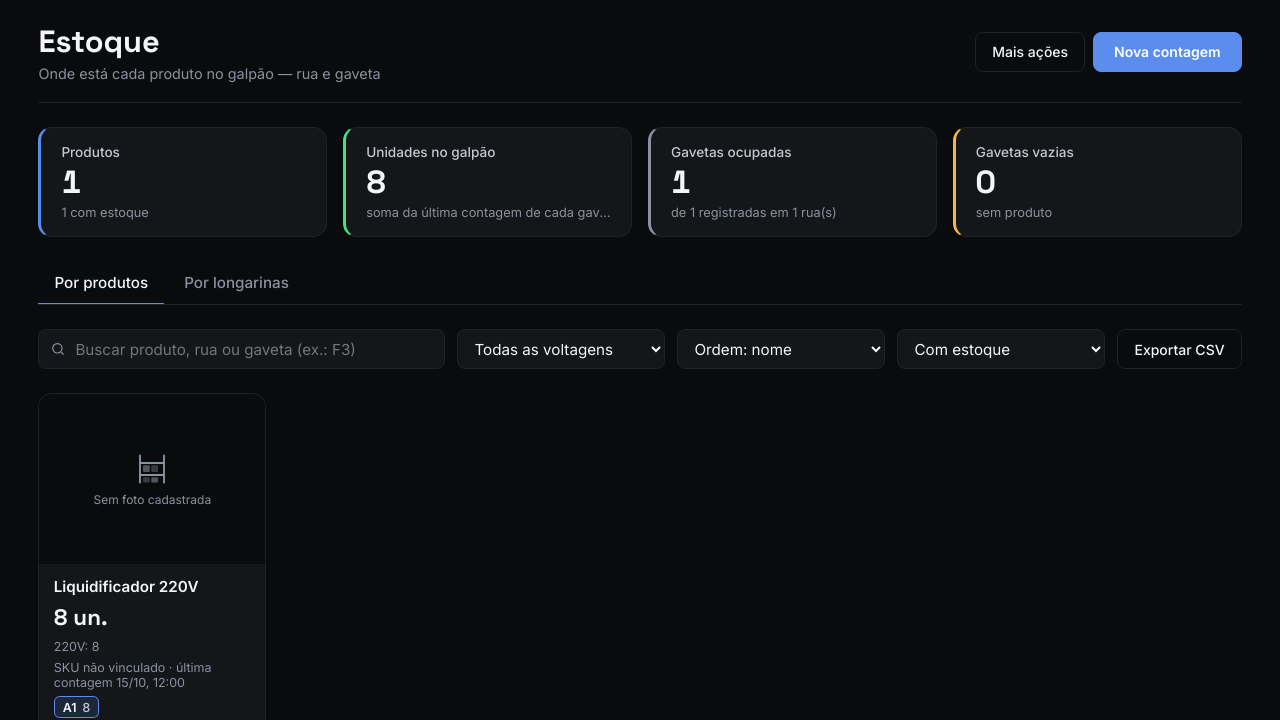
Estoque › permite iniciar recontagem de gaveta existente ou criar uma nova pela ação principal
Click the button "Nova contagem".
click(1167, 52)  # box [1093,32,1242,72]
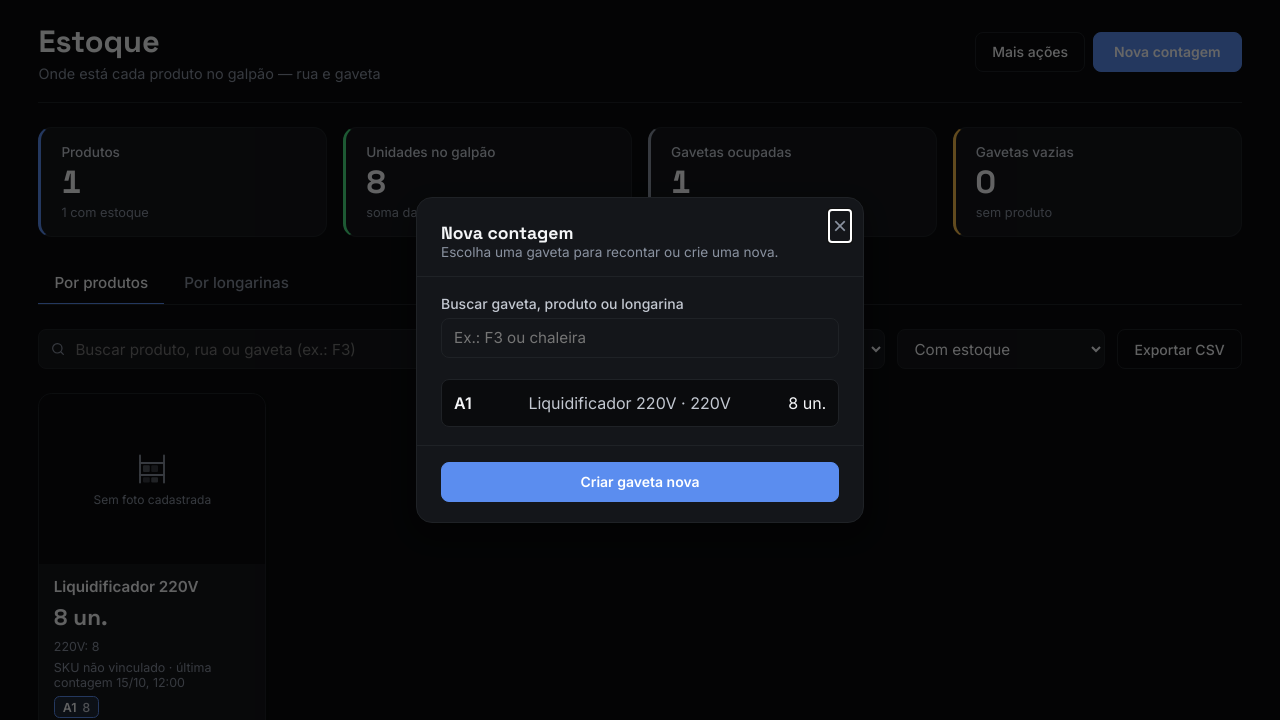
Click the button "A1 Liquidificador 220V · 220V 8 un.".
click(640, 403)  # box [441,379,839,427]
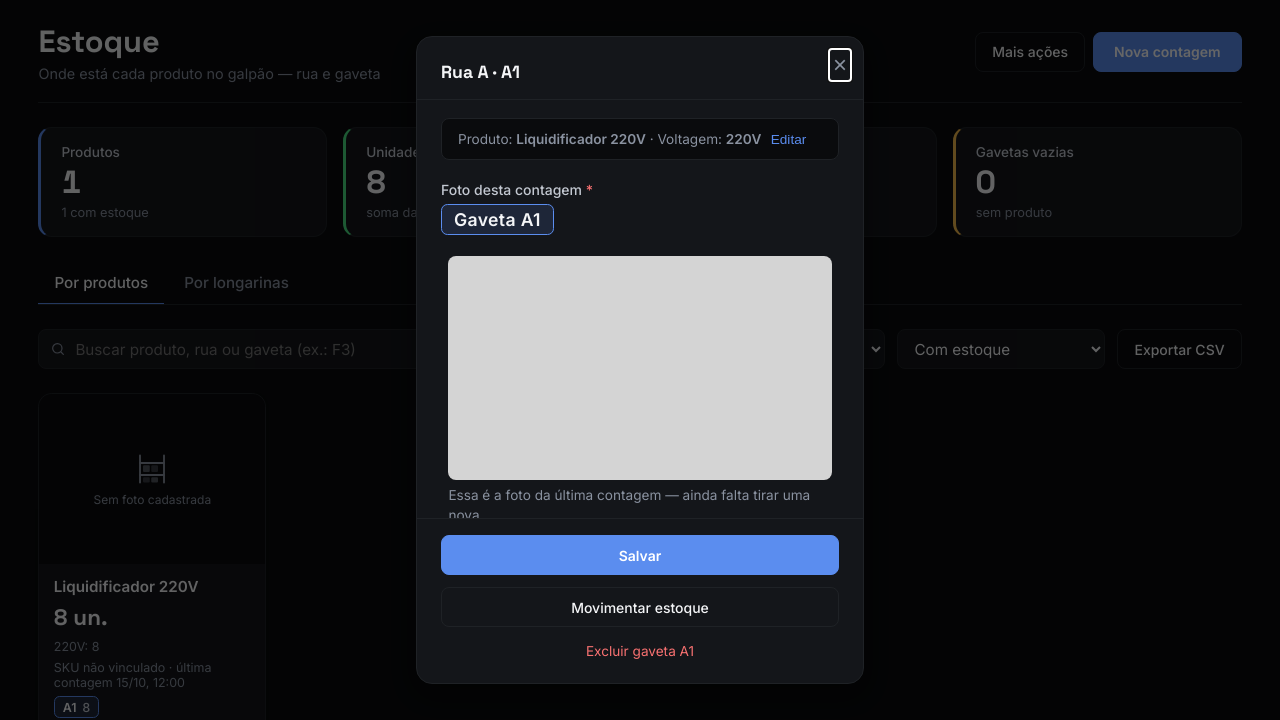
Now the dialog "A1" is shown, box [416,36,864,684]
Click the button named "Fechar".
click(840, 65)  # box [829,49,851,81]
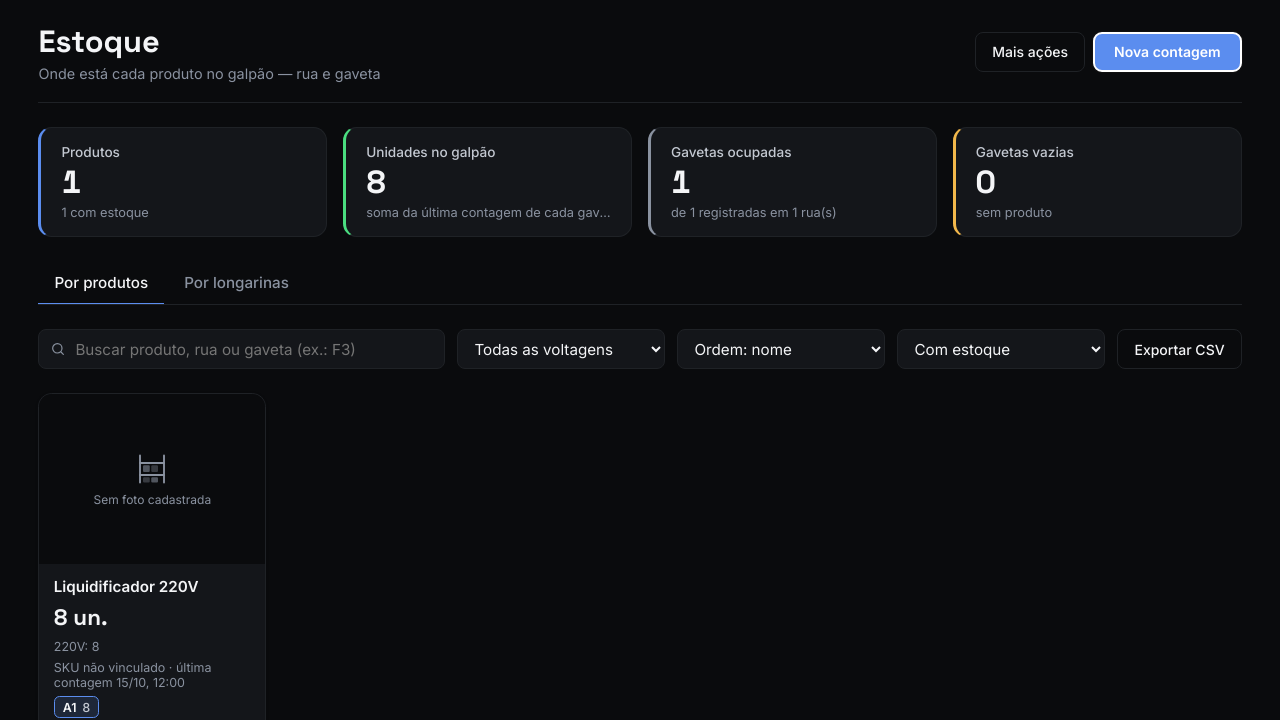
Click the button "Nova contagem".
click(1167, 52)  # box [1093,32,1242,72]
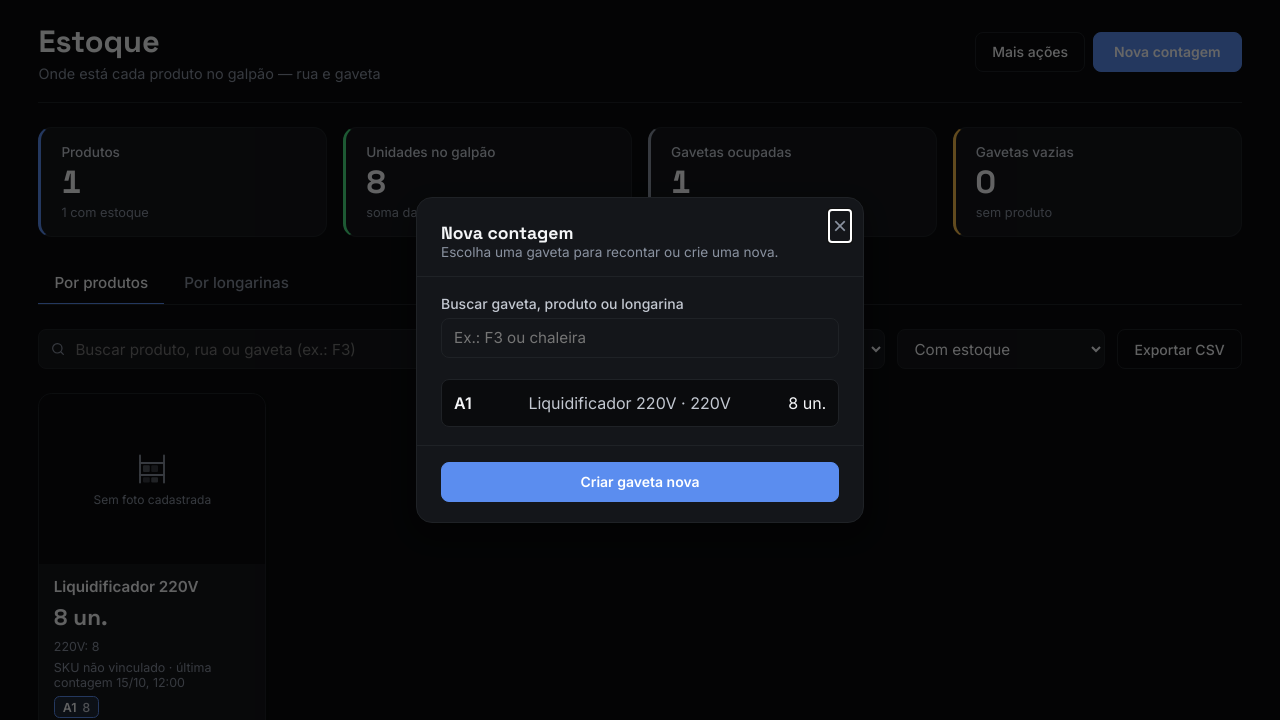
Click the button "Criar gaveta nova".
click(640, 482)  # box [441,462,839,502]
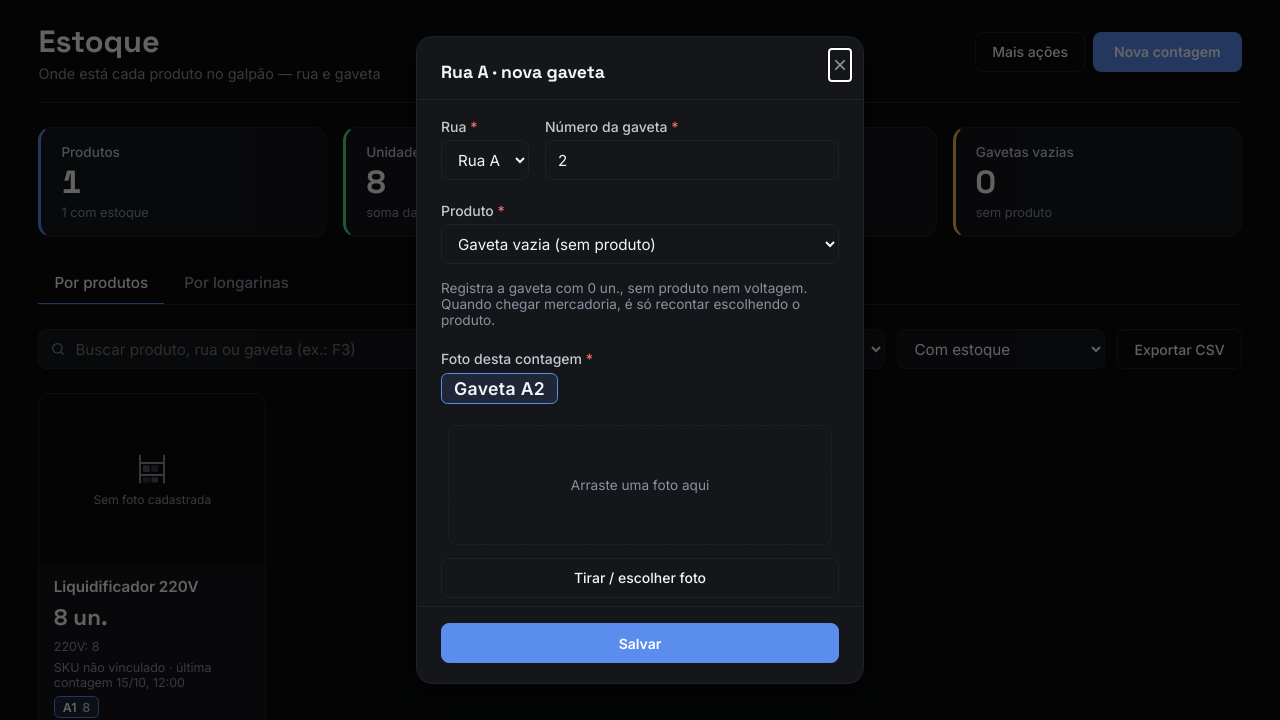
Now the dialog "nova gaveta" is shown, box [416,36,864,684]
